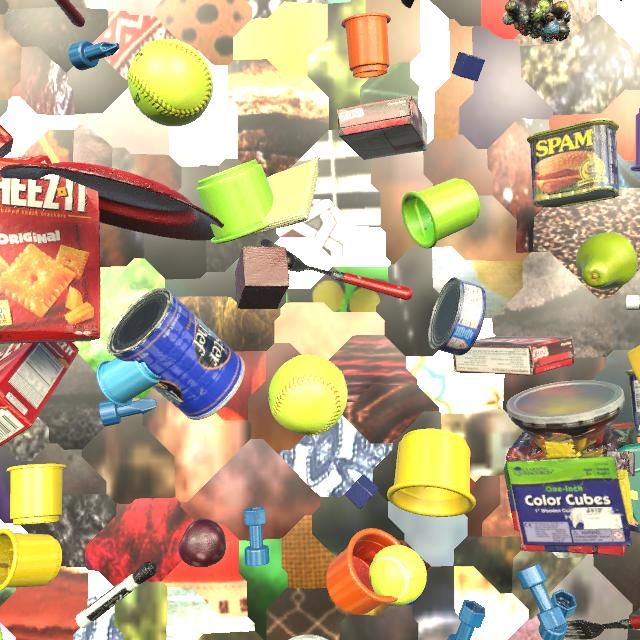ycb_002_master_chef_can: (107, 287, 245, 420), (288, 634, 329, 640)
ycb_003_cracker_box: (0, 157, 101, 344), (0, 342, 79, 446), (0, 124, 14, 158), (8, 155, 52, 164)
ycb_006_mustard_bottle: (627, 345, 640, 384)
ycb_007_tuna_fish_can: (428, 277, 486, 356)
ycb_008_pudding_box: (337, 95, 428, 160), (452, 336, 574, 376)
ycb_009_gelatin_box: (619, 0, 622, 1)
ycb_010_potted_meat_can: (527, 118, 619, 208), (625, 369, 640, 437)
ycb_016_pear: (576, 232, 638, 289)
ycb_018_plum: (178, 518, 226, 568)
